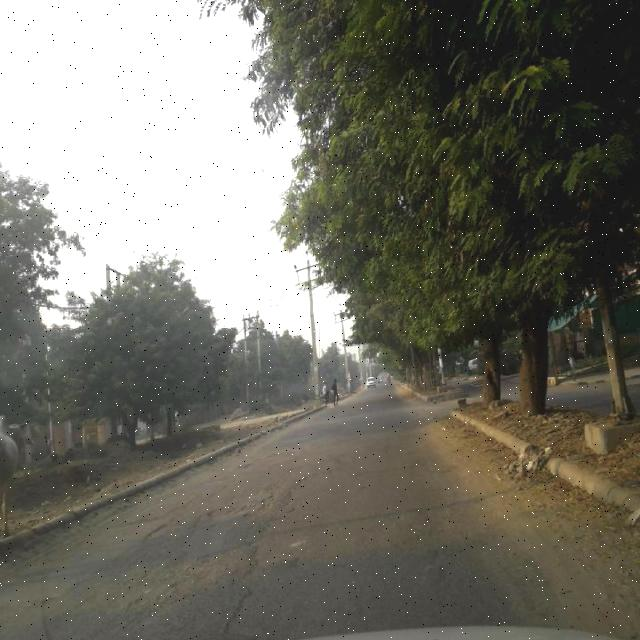D00: (199, 578, 262, 639)
D40: (196, 490, 272, 537), (140, 513, 191, 558)
